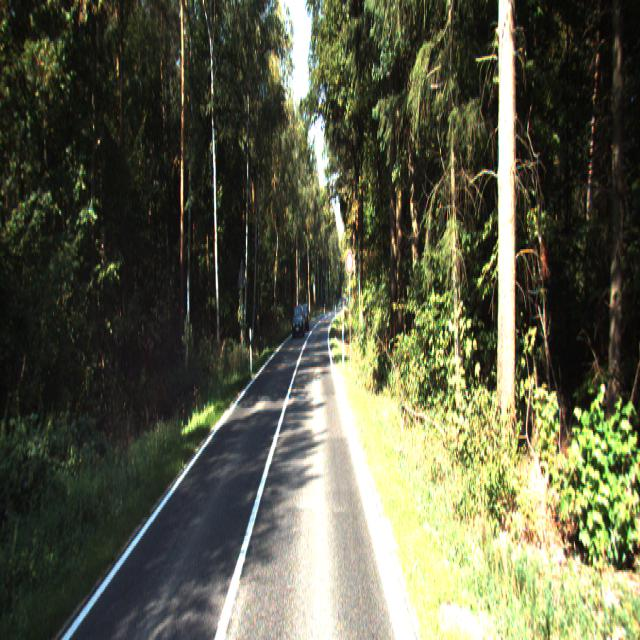Car: (292, 306, 305, 340)
